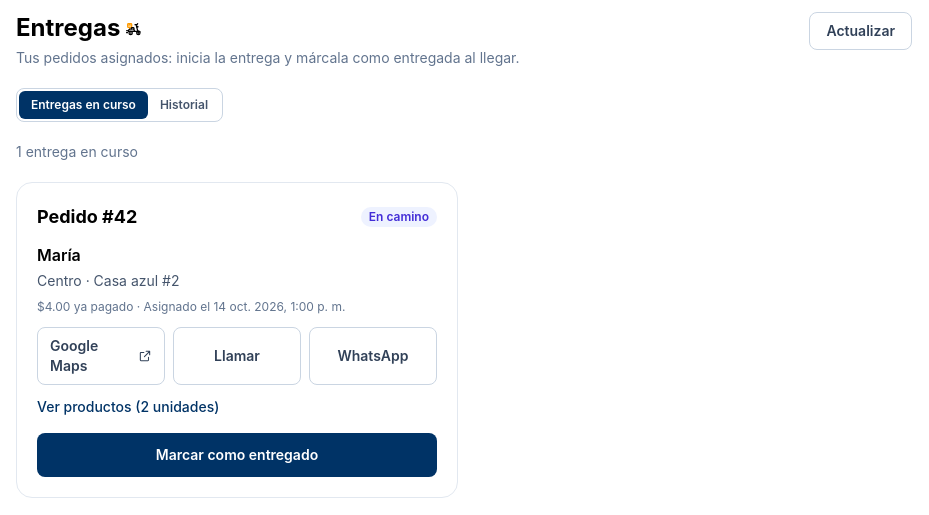
it: Entregas del repartidor › marcar como entregado lo saca de las entregas en curso
Click the button "Marcar como entregado": (237, 455) [37, 433, 437, 477]
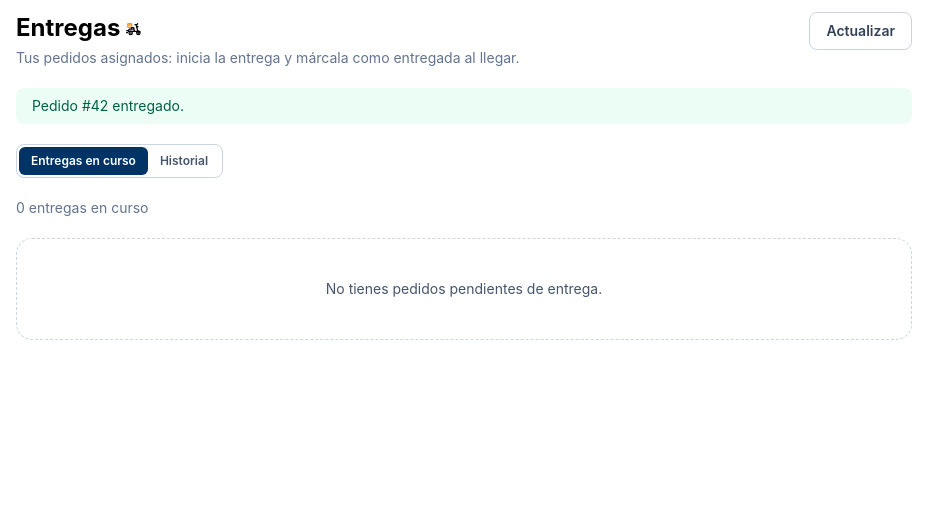
Result: the text "Pedido #42 entregado." is shown at [16, 88, 912, 124]
Result: the text "No tienes pedidos pendientes de entrega." is shown at [16, 238, 912, 340]
